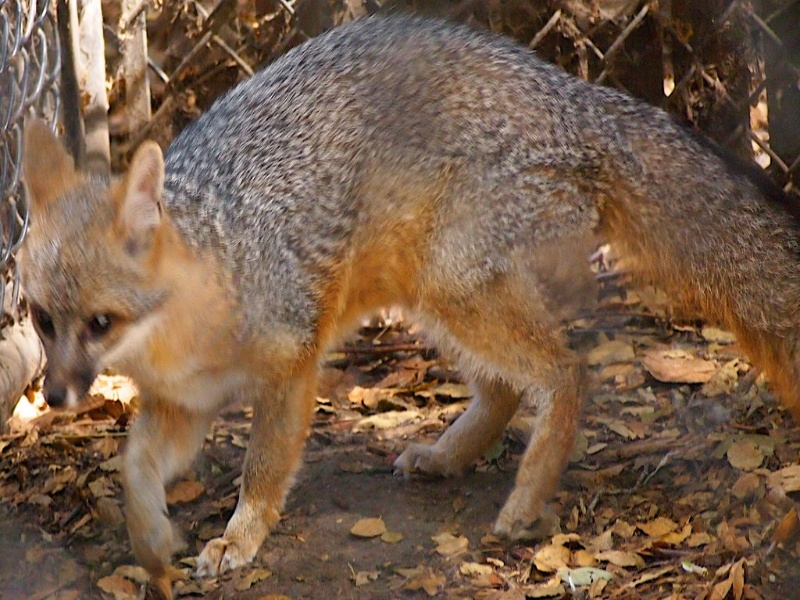fox: (19, 18, 800, 584)
